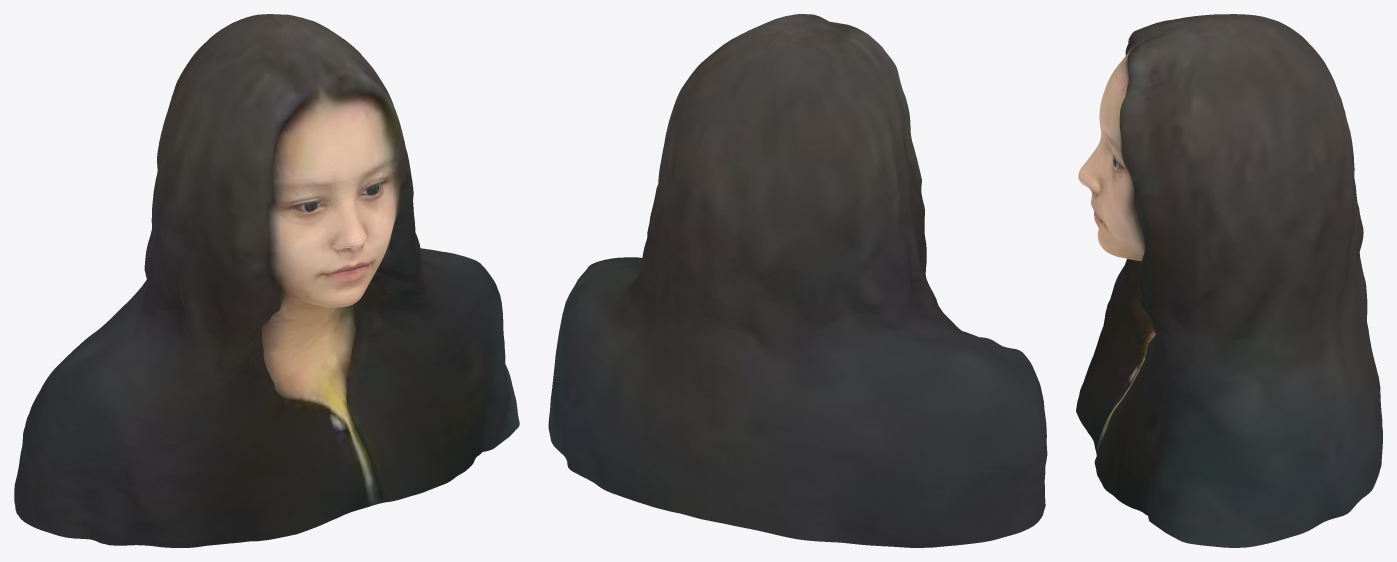
The model's file is 真人头像_女_青年01_opt.glb.
3 views of the same model, side by side, from view 1: azimuth 30°, elevation 25°; view 2: azimuth 150°, elevation 25°; view 3: azimuth 270°, elevation 25° (orthographic). The views are drawn at different scales.
Parts seen in each view (by area): view 1: Object_2; view 2: Object_2; view 3: Object_2.
Boxes of the visible parts, x1,y1,x2,y2 form: Object_2: (14, 14, 519, 547); Object_2: (548, 14, 1047, 547); Object_2: (1076, 14, 1382, 547).
Bounding box in the file's own units: 0.3472 × 0.3 × 0.1983.
Materials: 1 (1 with a texture image).
